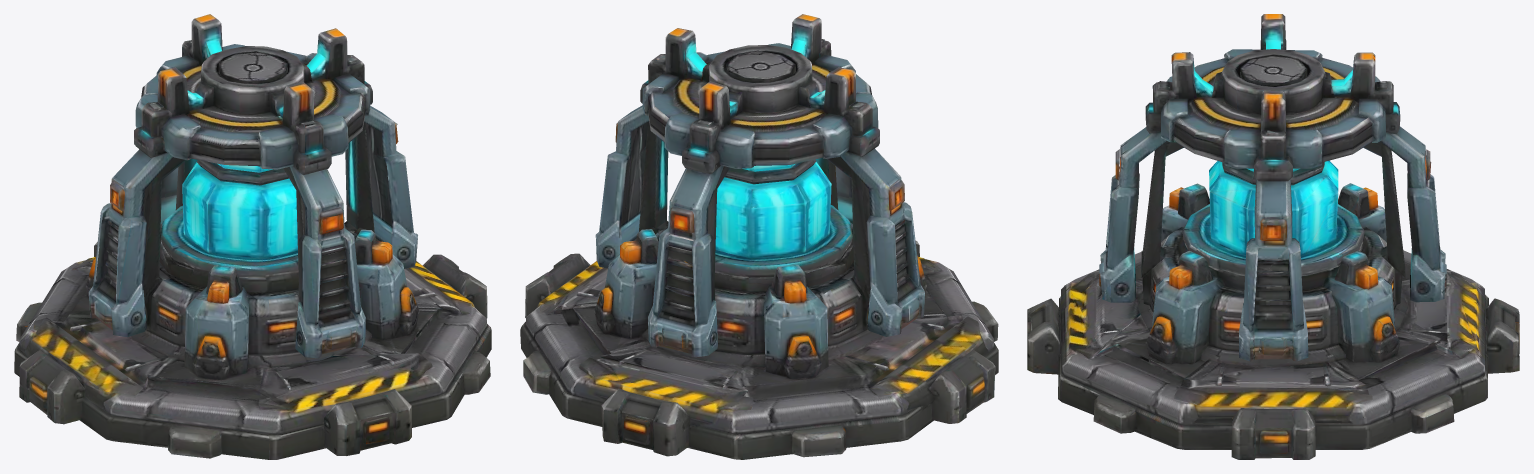
The model's file is generator_0.glb.
The picture shows the model from 3 angles, left to right: view 1: azimuth 30°, elevation 25°; view 2: azimuth 150°, elevation 25°; view 3: azimuth 270°, elevation 25°; orthographic projection.
Visible parts, largest first — view 1: mesh_node; view 2: mesh_node; view 3: mesh_node.
Boxes of the visible parts, x1,y1,x2,y2 form: mesh_node: (14, 14, 491, 459); mesh_node: (520, 14, 998, 459); mesh_node: (1027, 14, 1519, 459).
Bounding box in the file's own units: 1 × 0.6777 × 1.
1 material, 1 textured.
